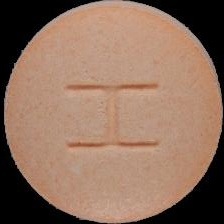53808-1062: (0, 0, 224, 224)
